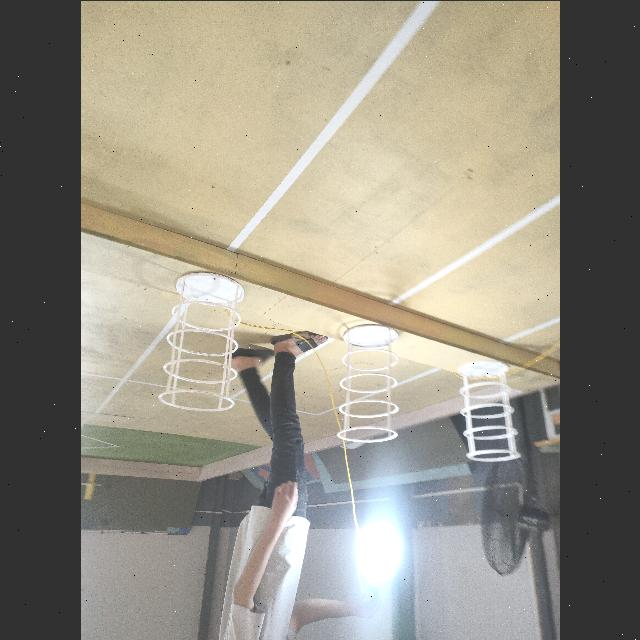S: (158, 269, 245, 413), (338, 326, 400, 442), (455, 358, 521, 462)
